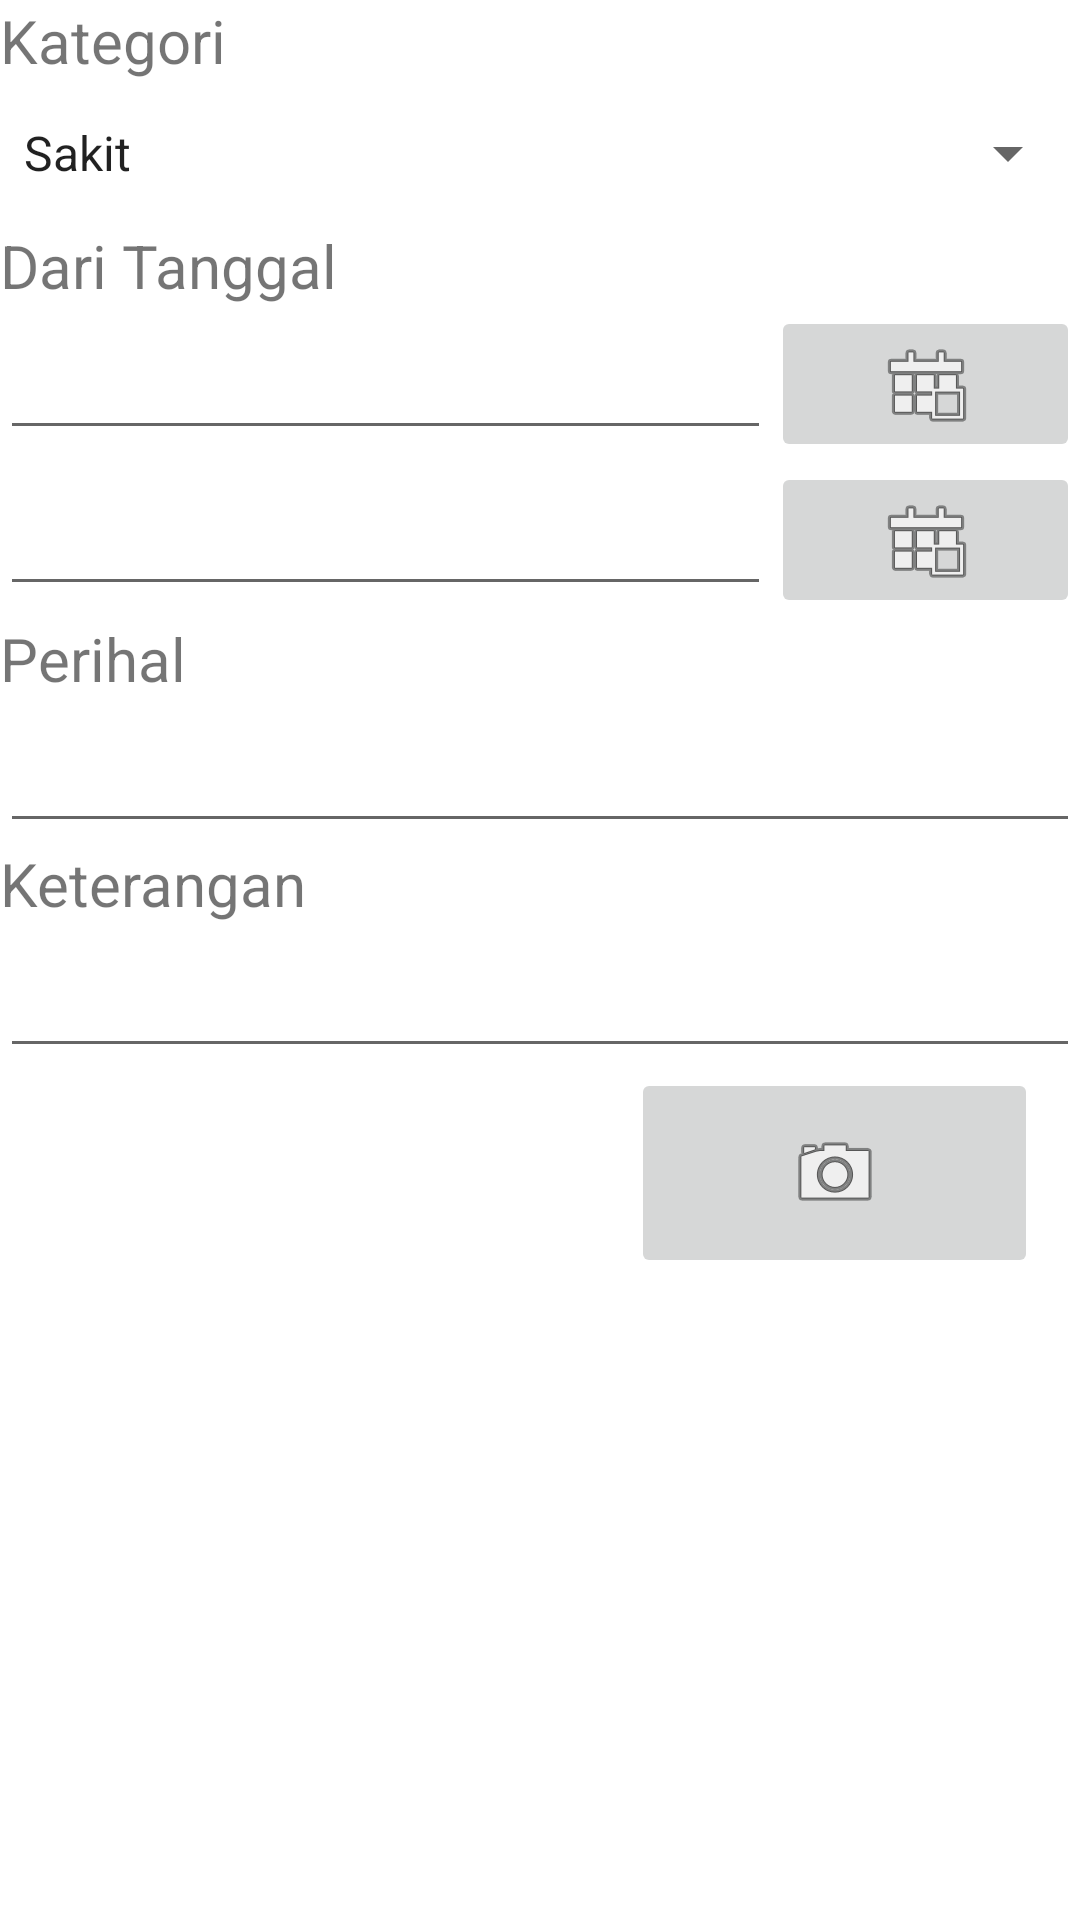

Screen size 1080w x 1920h. Icon name, then its center in pixels as point (x, y):
today: point (925, 384), point (925, 540)
